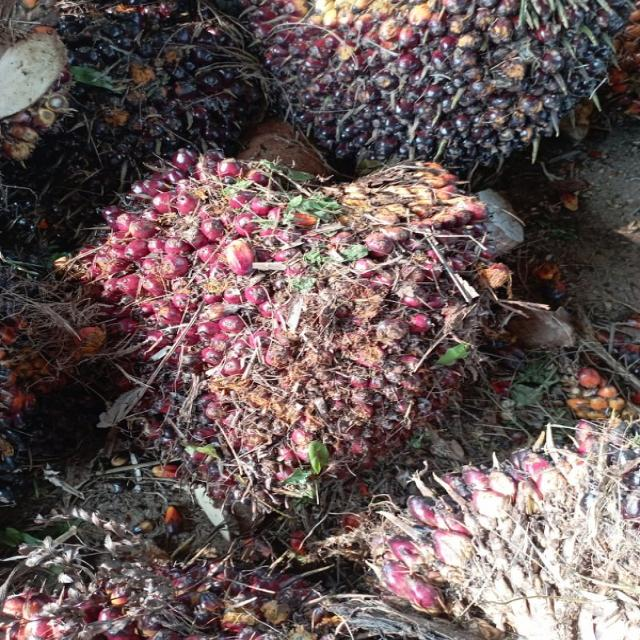fraksi 00: (268, 0, 611, 166)
fraksi 3: (73, 154, 506, 486)
